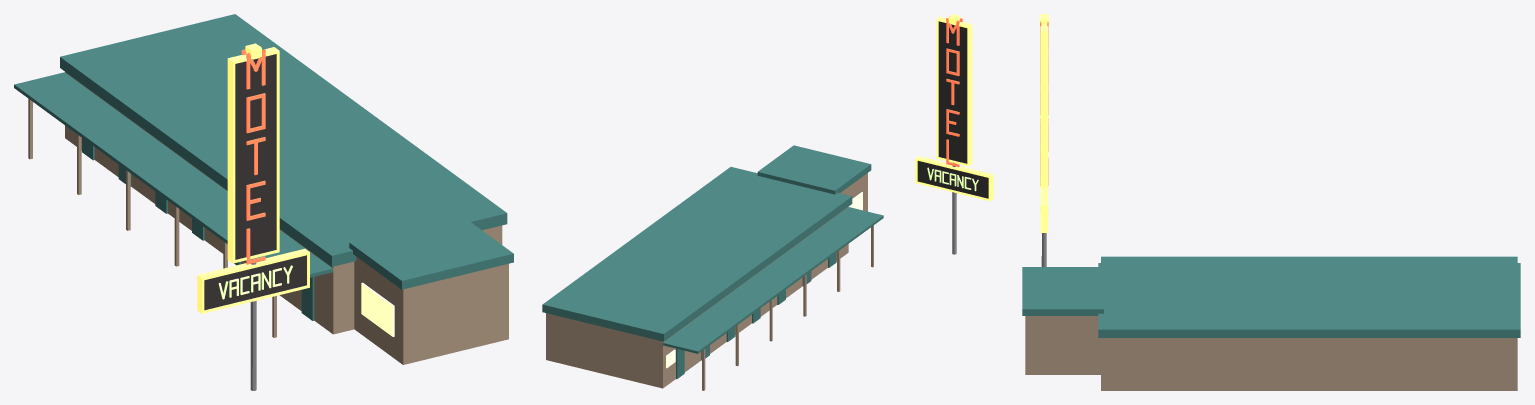
File: motel.glb
3 renders of one model, left to right at view 1: azimuth 30°, elevation 25°; view 2: azimuth 150°, elevation 25°; view 3: azimuth 270°, elevation 25°, orthographic. The views are drawn at different scales.
Parts seen in each view (by area): view 1: motel; view 2: motel; view 3: motel.
Boxes of the visible parts, bbox=[...] form: motel: bbox=[14, 14, 513, 390]; motel: bbox=[542, 14, 993, 390]; motel: bbox=[1022, 14, 1520, 390].
Bounding box in the file's own units: 16.21 × 15.5 × 26.3.
